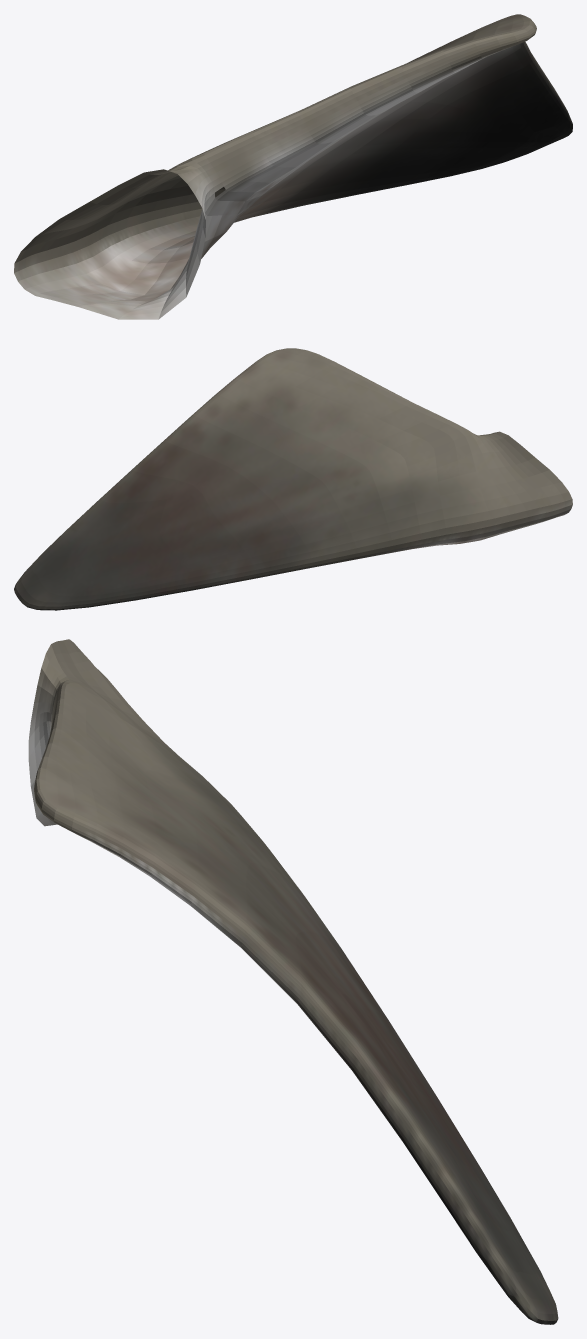
Rendered from aleta2.obj.
3 renders of one model, top to bottom at view 1: azimuth 30°, elevation 25°; view 2: azimuth 150°, elevation 25°; view 3: azimuth 270°, elevation 25°, orthographic. The views are drawn at different scales.
Parts seen in each view (by area): view 1: polySurface3 polySurface2 _Shark_v2; view 2: polySurface3 polySurface2 _Shark_v2; view 3: polySurface3 polySurface2 _Shark_v2.
Boxes of the visible parts, x1,y1,x2,y2 form: polySurface3 polySurface2 _Shark_v2: [14, 14, 572, 319]; polySurface3 polySurface2 _Shark_v2: [14, 348, 572, 610]; polySurface3 polySurface2 _Shark_v2: [28, 639, 558, 1324].
Bounding box in the file's own units: 1.65 × 0.7081 × 0.8515.
Materials: 1 (1 with a texture image).
